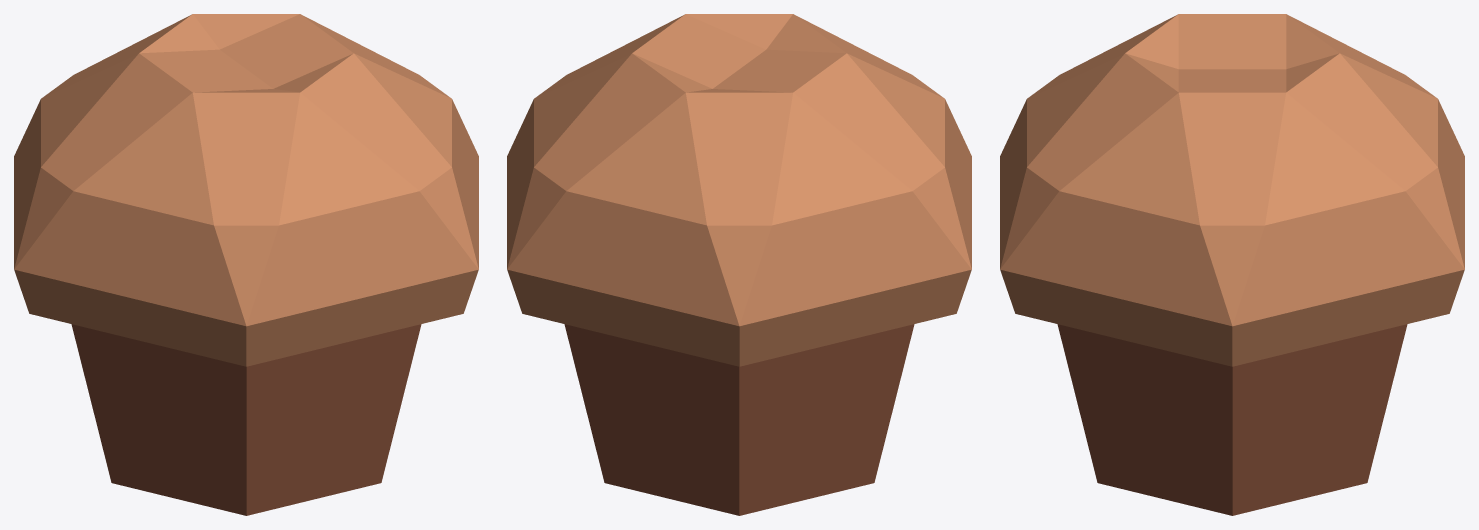
File: muffin.obj
3 views of the same model, side by side, from view 1: azimuth 30°, elevation 25°; view 2: azimuth 150°, elevation 25°; view 3: azimuth 270°, elevation 25° (orthographic).
Parts seen in each view (by area): view 1: muffin; view 2: muffin; view 3: muffin.
Part boxes in pixels (box(x1,y1,x2,y2)): muffin: box(14, 14, 478, 515); muffin: box(507, 14, 971, 515); muffin: box(1000, 14, 1464, 515).
Size of the model in its own units: 0.3047 by 0.2486 by 0.2639.
